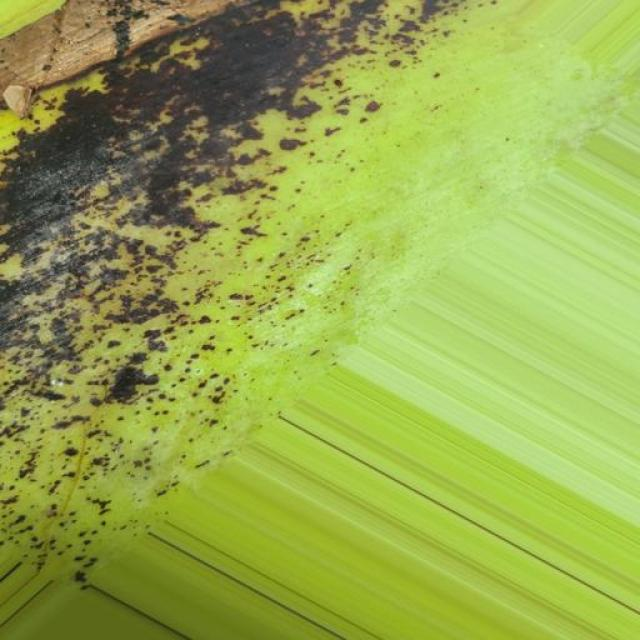Anthracnose: (1, 3, 546, 615)
